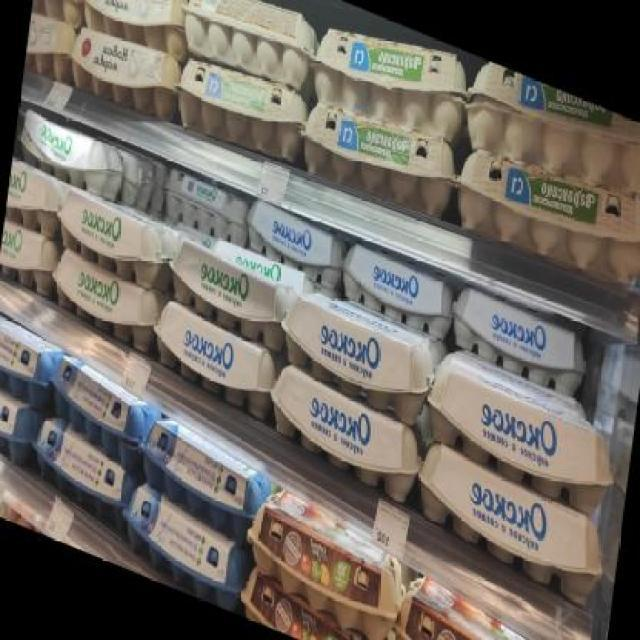egg: (424, 347, 621, 518), (416, 436, 610, 609), (448, 130, 640, 299), (460, 54, 640, 220), (243, 480, 404, 640), (276, 283, 438, 432), (312, 2, 470, 152), (298, 88, 460, 230), (266, 359, 426, 501), (113, 472, 250, 614), (173, 46, 312, 174), (136, 408, 270, 540), (450, 277, 590, 400), (150, 294, 278, 420), (168, 236, 292, 350), (390, 572, 582, 640), (338, 236, 458, 344), (49, 354, 162, 466), (28, 412, 140, 525), (70, 17, 180, 129), (56, 190, 175, 292), (52, 247, 162, 353), (16, 105, 124, 204), (242, 196, 346, 289), (244, 573, 387, 639), (82, 0, 190, 62), (1, 312, 62, 411), (0, 217, 60, 298), (5, 159, 66, 238), (25, 11, 80, 87), (0, 376, 43, 470), (30, 0, 90, 34)
